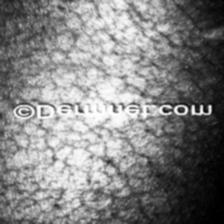Non-Cancerous Skin Condition: (17, 132, 222, 224), (41, 0, 224, 98)
